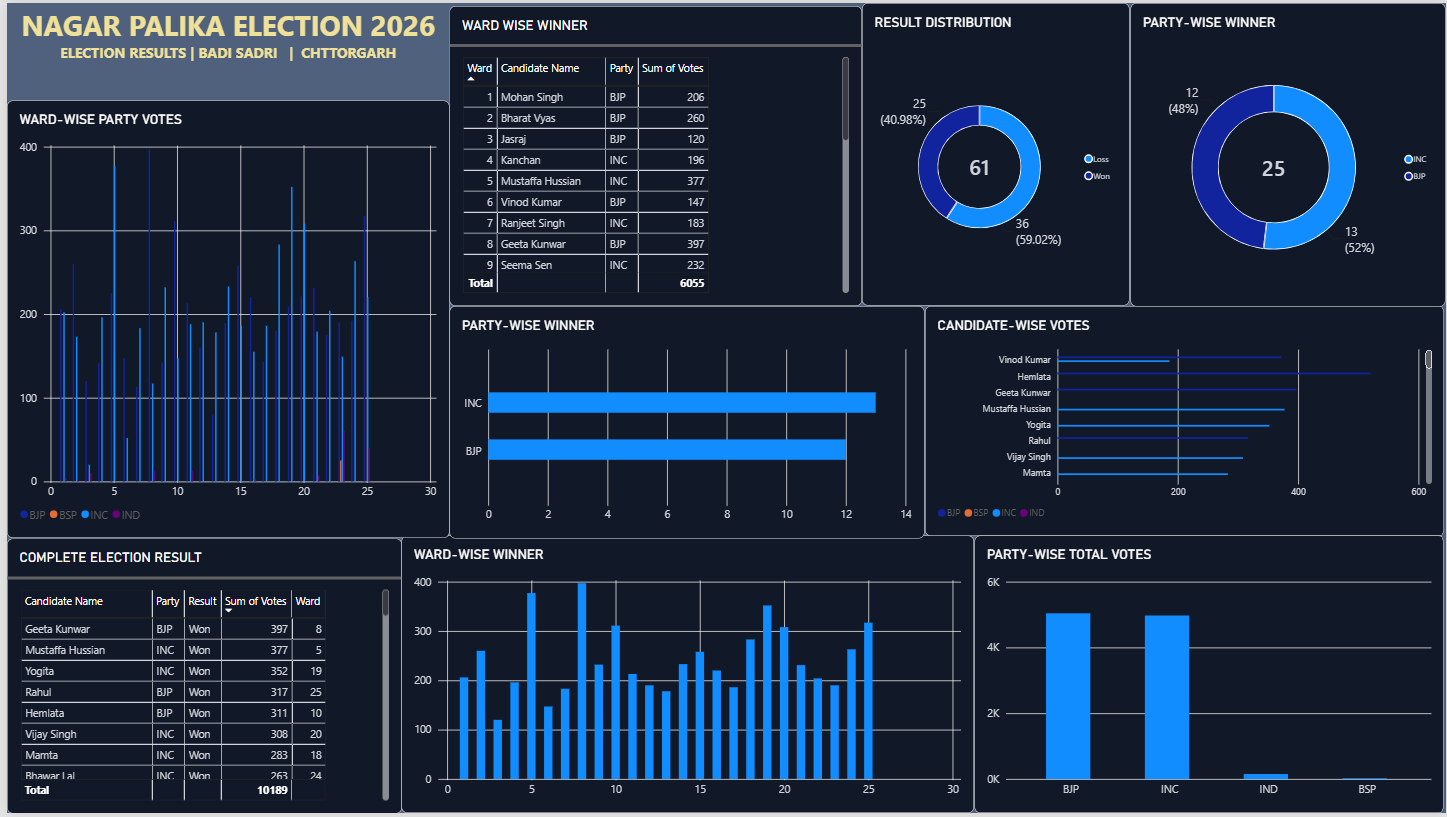

Layout of this report page (visuals, bound fields, positions):
{"tool":"powerbi","page":{"name":"Page 2","canvas":[1920,1080],"ordinal":1},"visuals":[{"type":"tableEx","title":"COMPLETE ELECTION RESULT","fields":{"Values":["Sheet1 (3).Candidate Name","Sheet1 (3).Party","Sheet1 (3).Result","Sum(Sheet1 (3).Votes)","Sheet1 (3).Ward"]},"box":[0,713.3,526.7,366.7],"z":0},{"type":"donutChart","title":"PARTY-WISE WINNER","fields":{"Category":["Sheet1 (3).Party"],"Y":["CountNonNull(Sheet1 (3).Candidate Name)"]},"box":[1497.6,0,421.5,404.9],"z":1000},{"type":"clusteredColumnChart","title":"WARD-WISE WINNER","fields":{"Category":["Sheet1 (3).Ward"],"Y":["Sum(Sheet1 (3).Votes)"]},"box":[526.7,710,763.3,370],"z":2000},{"type":"clusteredBarChart","title":"CANDIDATE-WISE VOTES ","fields":{"Category":["Sheet1 (3).Candidate Name"],"Y":["Sum(Sheet1 (3).Votes)"],"Series":["Sheet1 (3).Party"]},"box":[1223.3,403.3,693.3,306.7],"z":3000},{"type":"clusteredColumnChart","title":"PARTY-WISE TOTAL VOTES","fields":{"Category":["Sheet1 (3).Party"],"Y":["Sum(Sheet1 (3).Votes)"]},"box":[1290,710,626.7,370],"z":4000},{"type":"donutChart","title":"RESULT DISTRIBUTION","fields":{"Category":["Sheet1 (3).Result"],"Y":["CountNonNull(Sheet1 (3).Candidate Name)"]},"box":[1140,0,356.7,403.3],"z":5000},{"type":"clusteredColumnChart","title":"WARD-WISE PARTY VOTES","fields":{"Category":["Sheet1 (3).Ward"],"Y":["Sum(Sheet1 (3).Votes)"],"Series":["Sheet1 (3).Party"]},"box":[0,130,590,583.3],"z":6000},{"type":"tableEx","title":"WARD WISE WINNER","fields":{"Values":["Sheet1 (3).Ward","Sheet1 (3).Candidate Name","Sheet1 (3).Party","Sum(Sheet1 (3).Votes)"]},"box":[590,3.3,550,400],"z":7000},{"type":"clusteredBarChart","title":"PARTY-WISE WINNER","fields":{"Category":["Sheet1 (3).Party"],"Y":["CountNonNull(Sheet1 (3).Candidate Name)"]},"box":[590,403.3,633.3,310],"z":8000},{"type":"textbox","box":[0,3.3,590,126.7],"z":9000}]}

Visuals, with their boxes in screenshot pixels (x1, y1, x2, y2), scaled from the page's 1920x1080 canvas onto the 1447x817 screenshot:
"COMPLETE ELECTION RESULT" tableEx: (left=0, top=540, right=397, bottom=816)
"PARTY-WISE WINNER" donutChart: (left=1129, top=0, right=1446, bottom=306)
"WARD-WISE WINNER" clusteredColumnChart: (left=397, top=537, right=972, bottom=816)
"CANDIDATE-WISE VOTES " clusteredBarChart: (left=922, top=305, right=1444, bottom=537)
"PARTY-WISE TOTAL VOTES" clusteredColumnChart: (left=972, top=537, right=1445, bottom=816)
"RESULT DISTRIBUTION" donutChart: (left=859, top=0, right=1128, bottom=305)
"WARD-WISE PARTY VOTES" clusteredColumnChart: (left=0, top=98, right=445, bottom=540)
"WARD WISE WINNER" tableEx: (left=445, top=2, right=859, bottom=305)
"PARTY-WISE WINNER" clusteredBarChart: (left=445, top=305, right=922, bottom=540)
textbox: (left=0, top=2, right=445, bottom=98)
